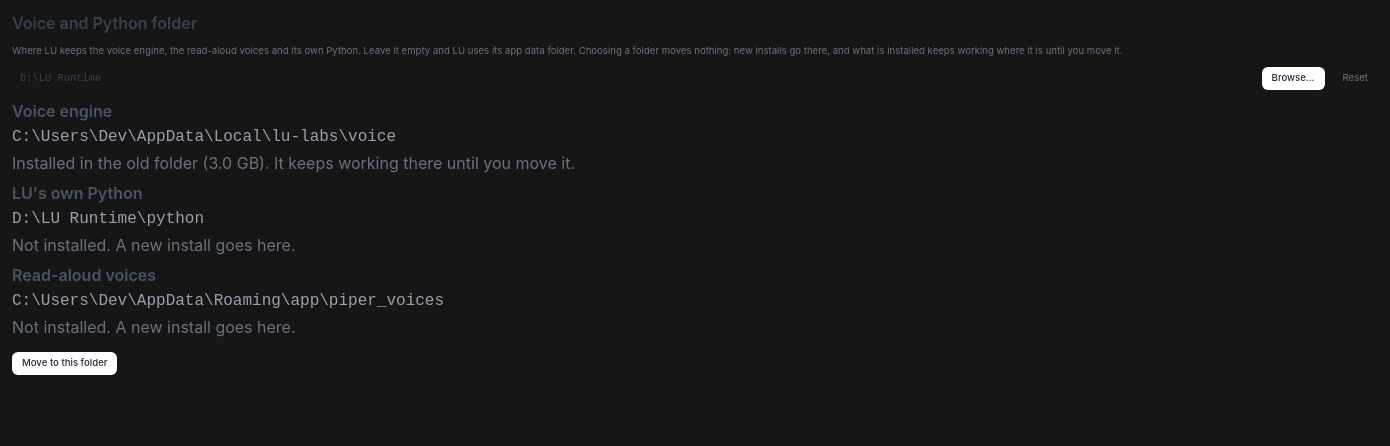
Test: the Voice and Python folder row › Cancel in the confirmation moves nothing
Click the button with test id "runtime-folder-move" at coordinates (65, 363), box [12, 352, 118, 375]
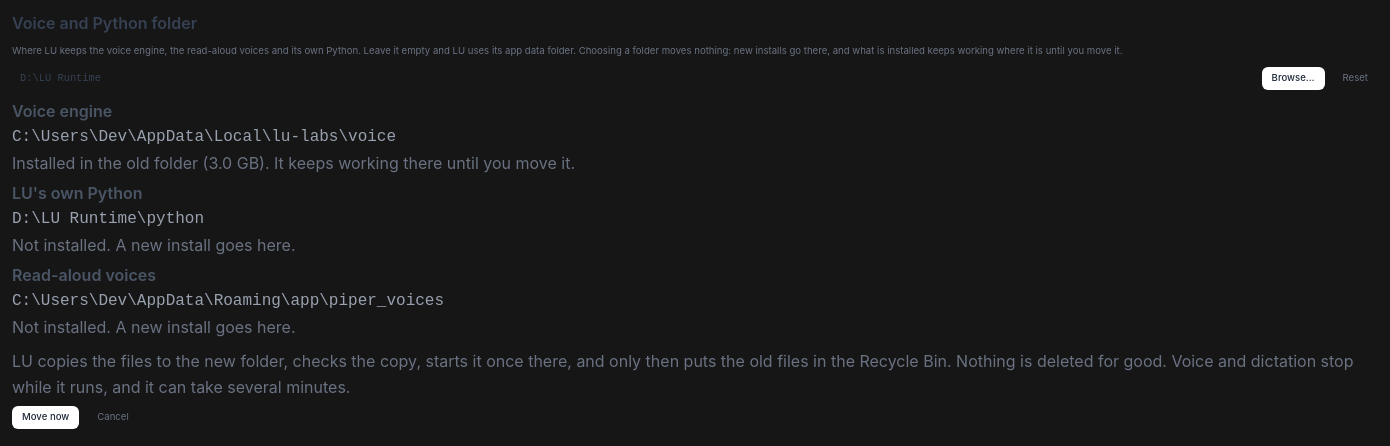
Click the button "Cancel" at coordinates (113, 417), box [87, 406, 139, 429]
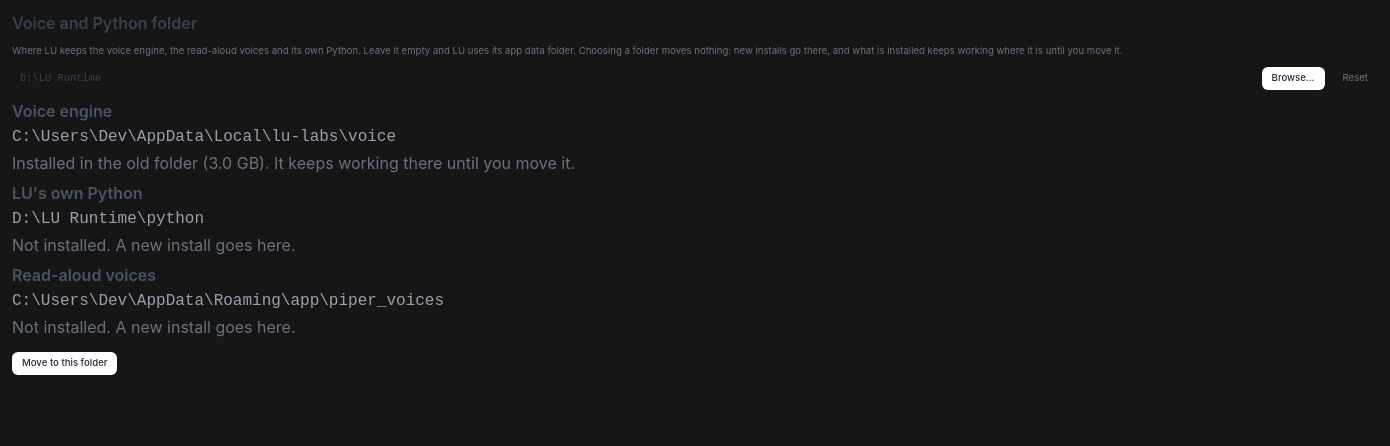
Result: the element with test id "runtime-folder-confirm" is gone
